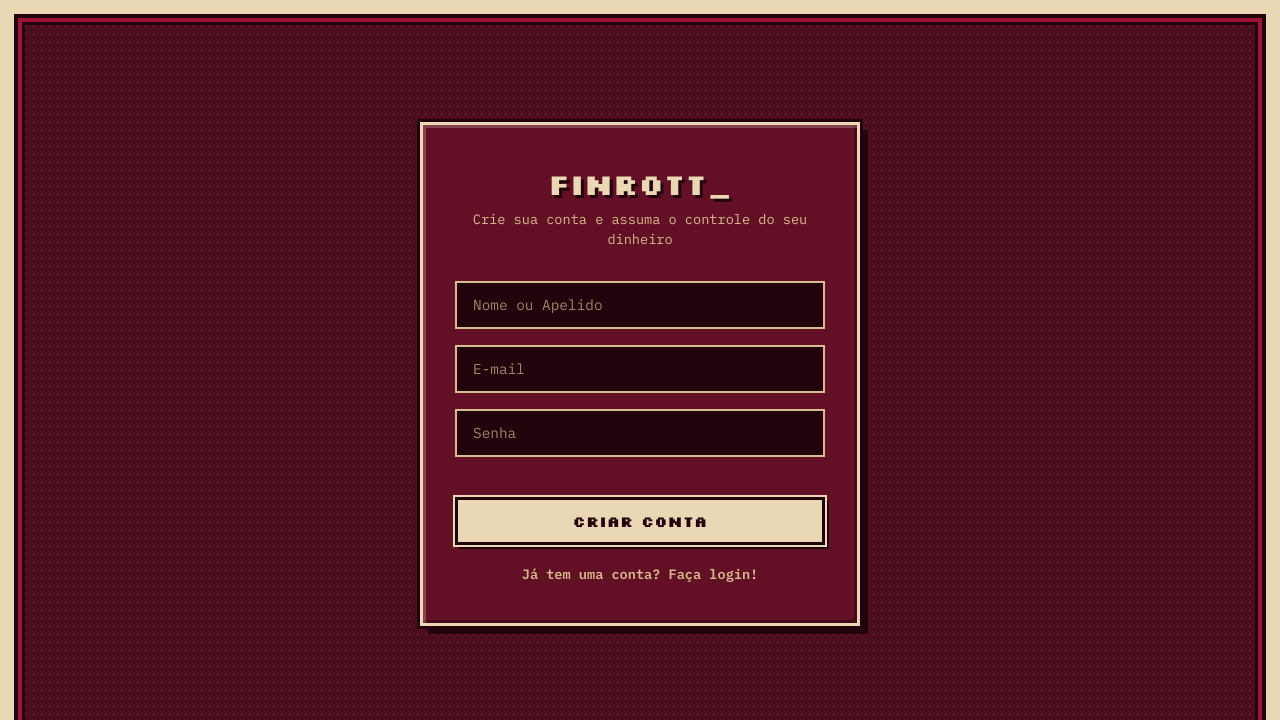
Authentication Pages & Validations › SignUpPage › validates empty fields on submission
Click the button "Criar Conta" at (640, 520), box [455,496,825,544]
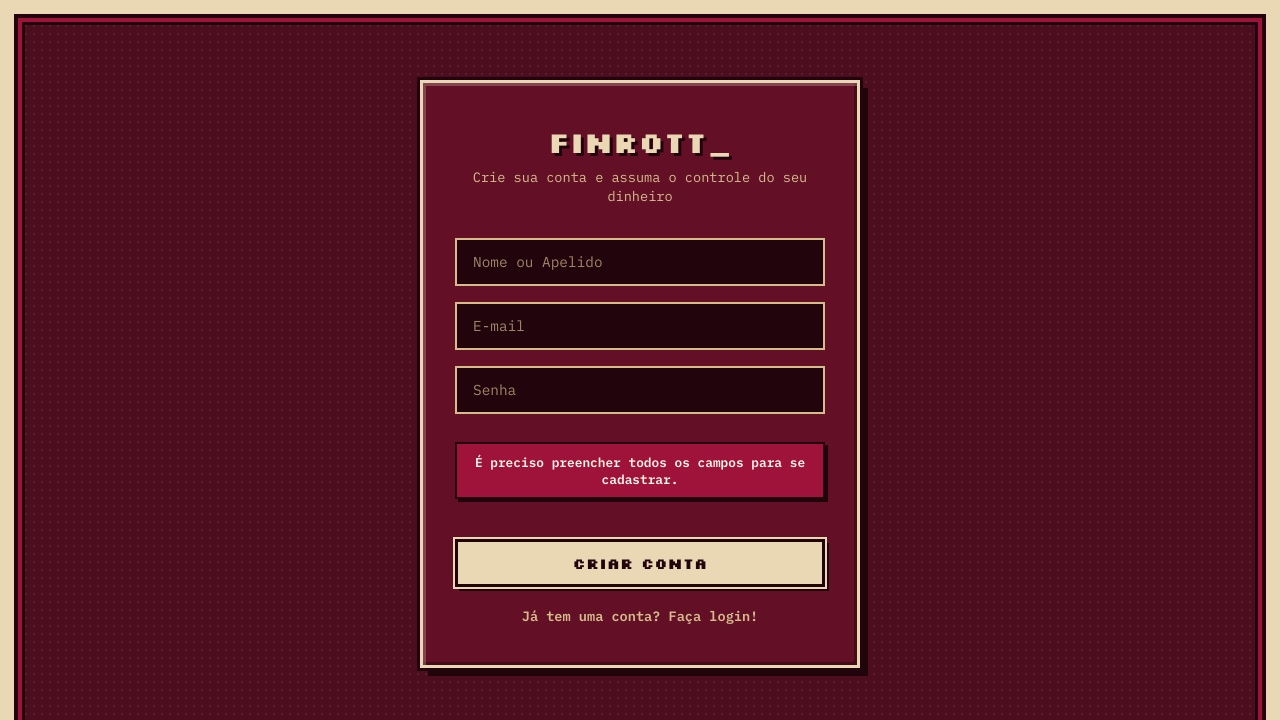
Expected: the text "É preciso preencher todos os campos para se cadastrar." is shown, [455,442,825,499]
